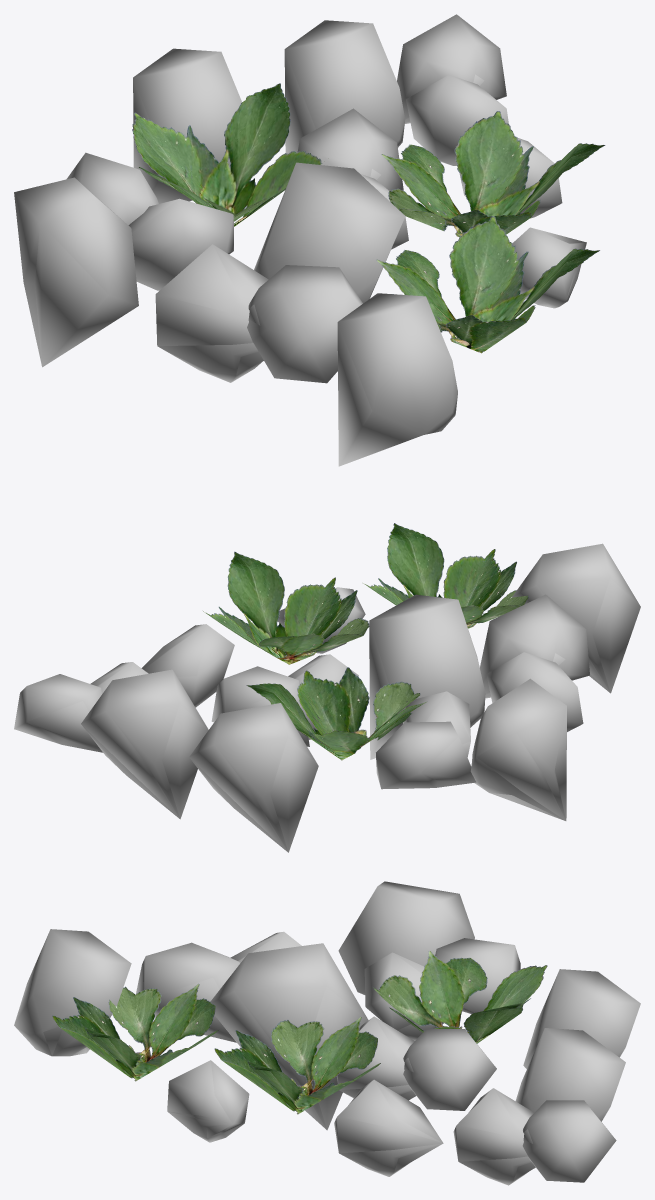
Rendered from StoneAndPlants_01.DAE.
3 renders of one model, top to bottom at view 1: azimuth 30°, elevation 25°; view 2: azimuth 150°, elevation 25°; view 3: azimuth 270°, elevation 25°, orthographic. The views are drawn at different scales.
Parts seen in each view (by area): view 1: StoneandPlant128, StoneandPlant64; view 2: StoneandPlant128, StoneandPlant64; view 3: StoneandPlant128, StoneandPlant64.
Boxes of the visible parts, x1,y1,x2,y2 form: StoneandPlant128: (14,14,605,466); StoneandPlant64: (34,50,586,466); StoneandPlant128: (14,523,639,852); StoneandPlant64: (28,578,640,852); StoneandPlant128: (14,881,640,1185); StoneandPlant64: (43,932,535,1179).
Size of the model in its own units: 104 by 118 by 36.14.
